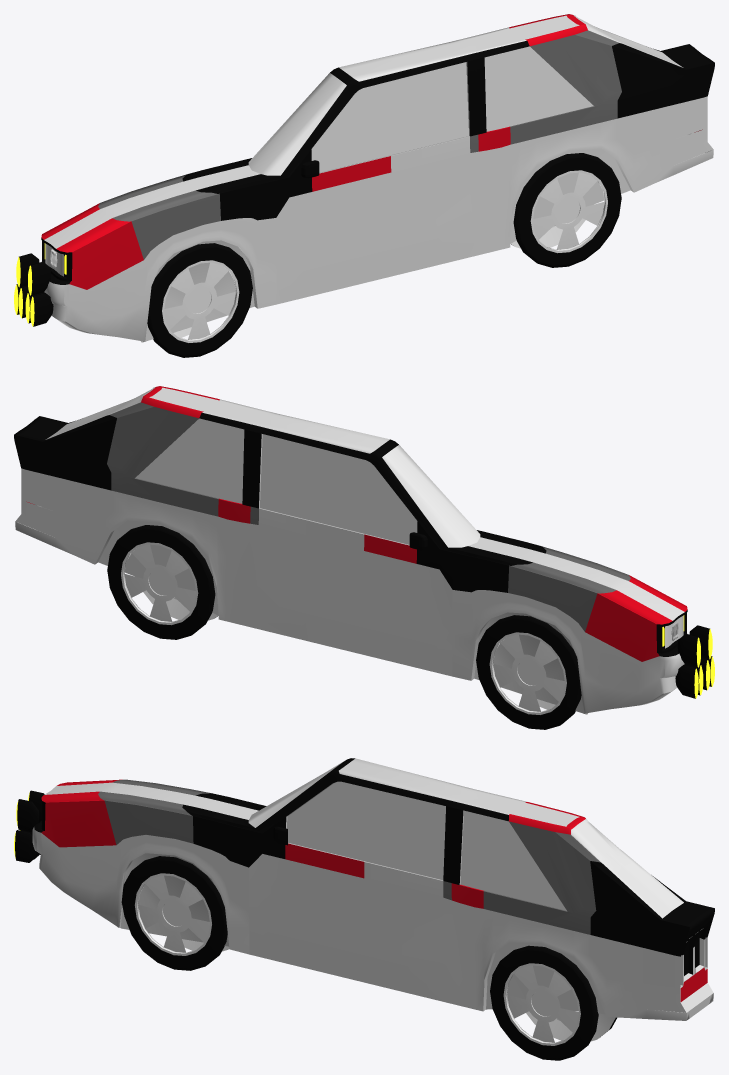
The model's file is Voiture-1-2D.fbx.
The picture shows the model from 3 angles, top to bottom: view 1: azimuth 30°, elevation 25°; view 2: azimuth 150°, elevation 25°; view 3: azimuth 330°, elevation 25°; orthographic projection.
Parts seen in each view (by area): view 1: 2Dvoiture_model; view 2: 2Dvoiture_model; view 3: 2Dvoiture_model.
Boxes of the visible parts, x1,y1,x2,y2 form: 2Dvoiture_model: (14,14,714,357); 2Dvoiture_model: (14,386,714,729); 2Dvoiture_model: (14,758,714,1060).
Bounding box in the file's own units: 312 × 103 × 25.31.
